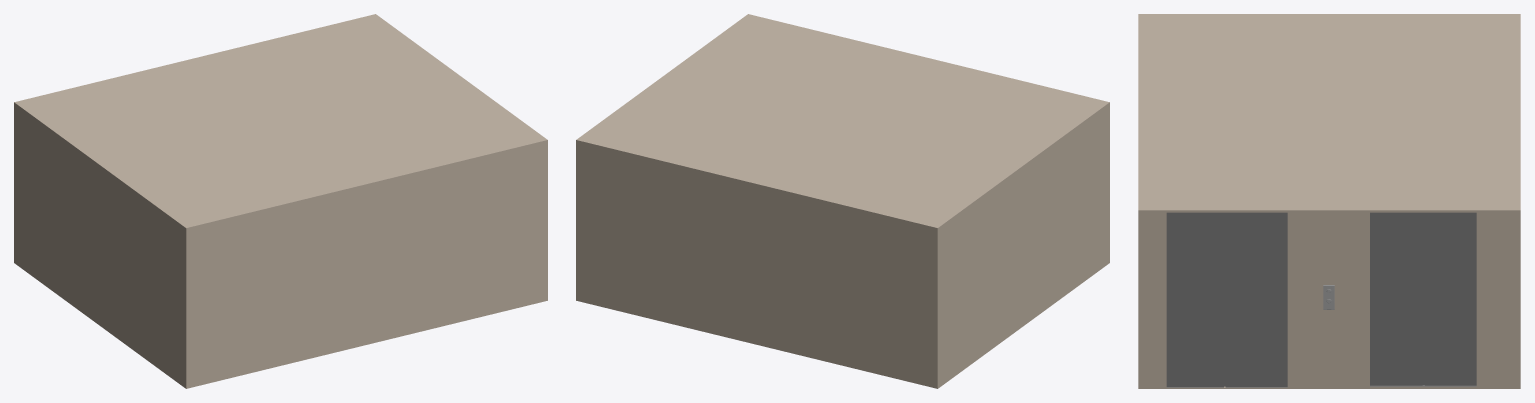
Rendered from lift.fbx.
3 renders of one model, left to right at view 1: azimuth 30°, elevation 25°; view 2: azimuth 150°, elevation 25°; view 3: azimuth 270°, elevation 25°, orthographic. The views are drawn at different scales.
Parts seen in each view (by area): view 1: pCube178; view 2: pCube178; view 3: pCube178.
Part boxes in pixels (bbox=[...]): pCube178: bbox=[14, 14, 547, 388]; pCube178: bbox=[576, 14, 1109, 388]; pCube178: bbox=[1138, 14, 1520, 388].
Size of the model in its own units: 33.91 by 14.36 by 27.84.
